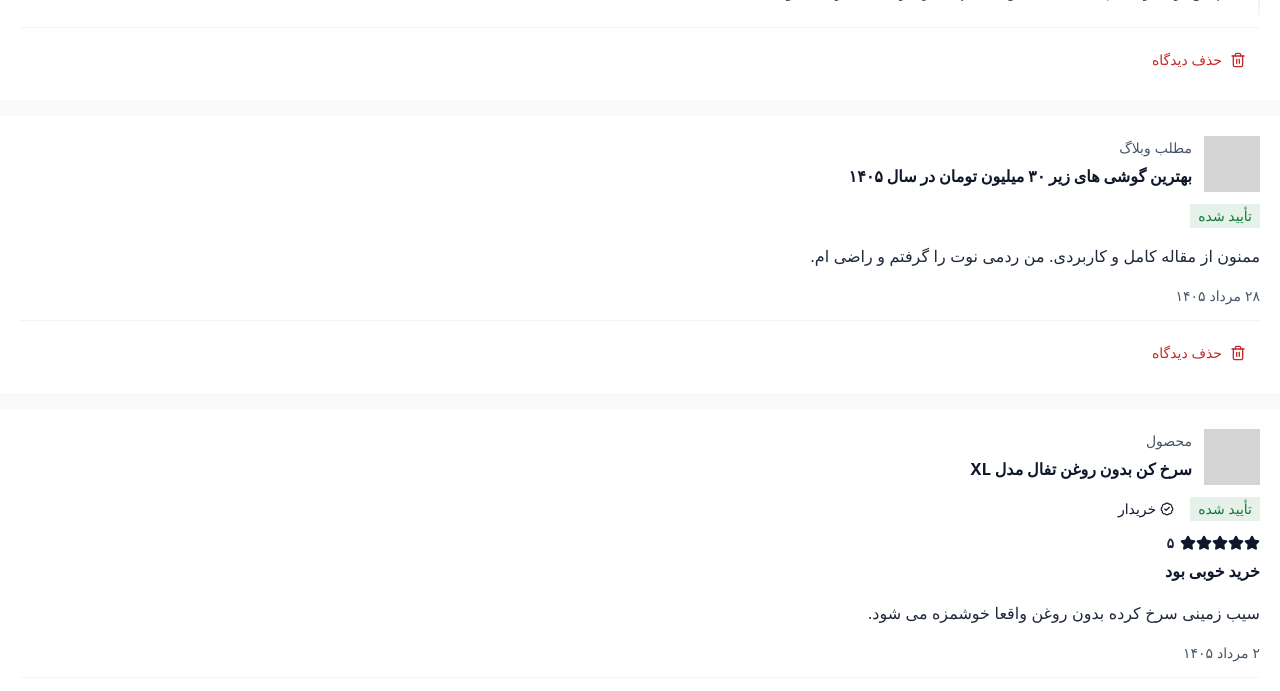
CommentsPage › asks first, starting on «انصراف», and «انصراف» deletes nothing
(page scrolled)
Click the button "حذف دیدگاه" below "۲۸ مرداد ۱۴۰۵": (1199, 353) [1138,333,1260,373]
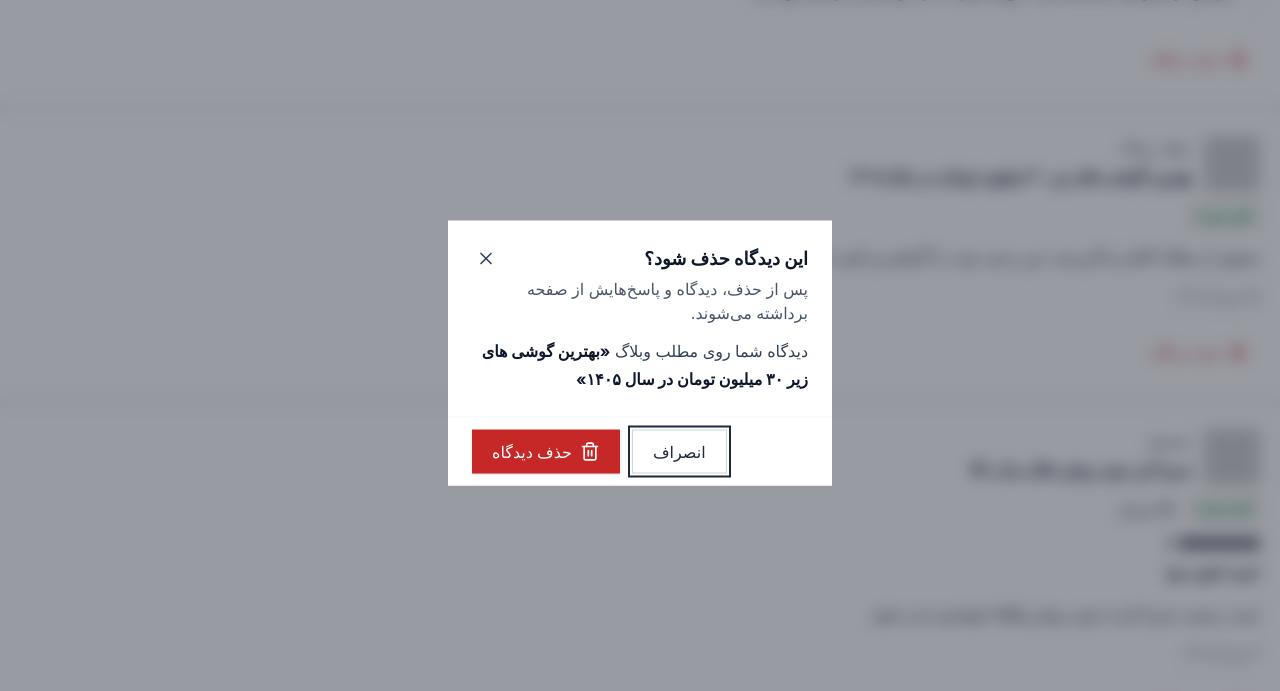
Click the button "انصراف": (679, 452) [632,430,727,474]
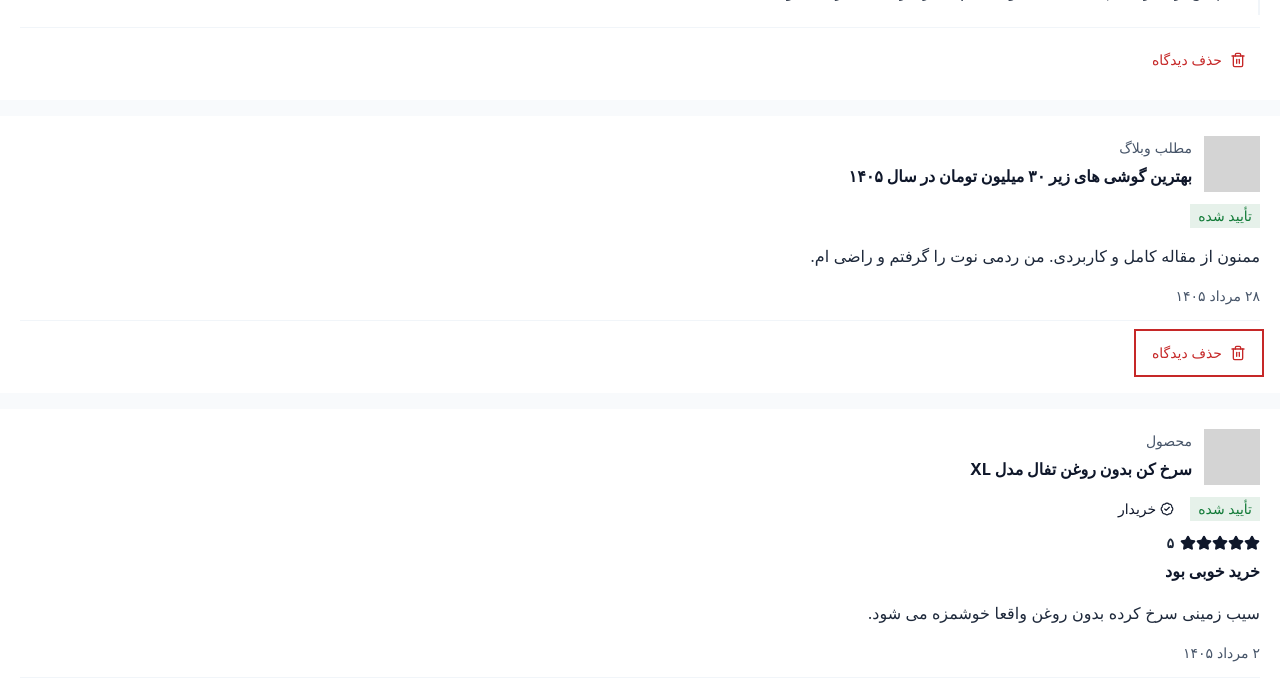
Expected: the dialog is gone
